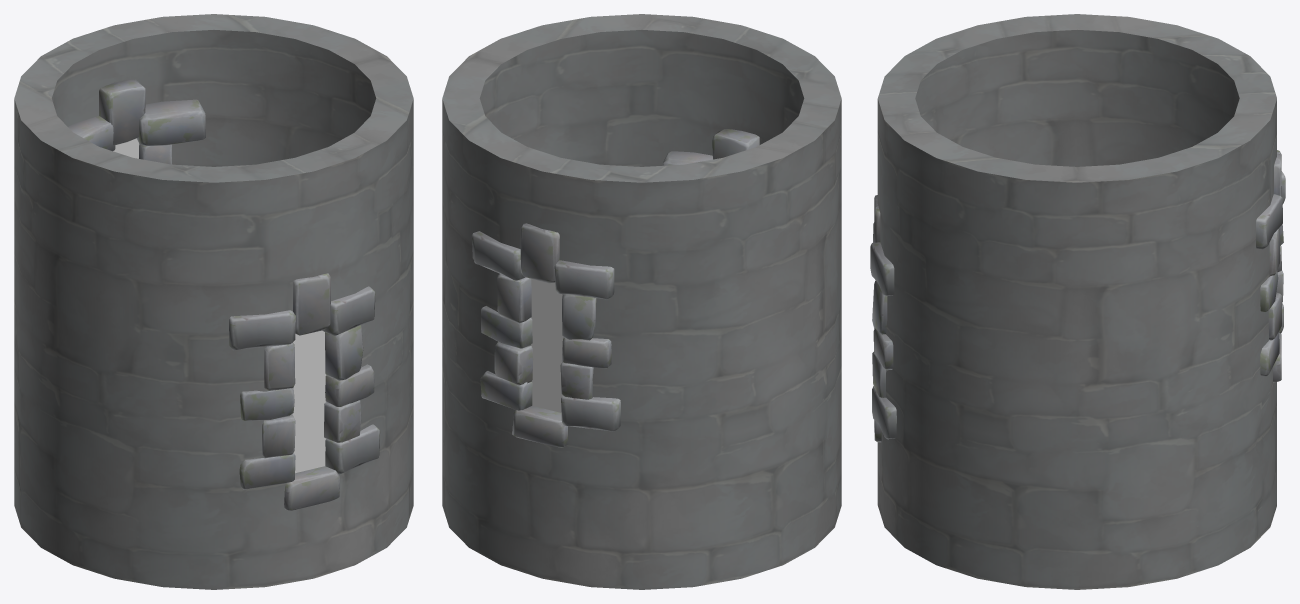
File: SM_TowerC_2Window.fbx
3 renders of one model, left to right at view 1: azimuth 30°, elevation 25°; view 2: azimuth 150°, elevation 25°; view 3: azimuth 270°, elevation 25°, orthographic.
Visible parts, largest first — view 1: SM_TowerC_2Window_LOD0; view 2: SM_TowerC_2Window_LOD0; view 3: SM_TowerC_2Window_LOD0.
Boxes of the visible parts, x1,y1,x2,y2 form: SM_TowerC_2Window_LOD0: (14,14,413,589); SM_TowerC_2Window_LOD0: (442,14,841,589); SM_TowerC_2Window_LOD0: (870,14,1285,589).
Size of what is drawn, in the model's own units: 400 by 450 by 416.
